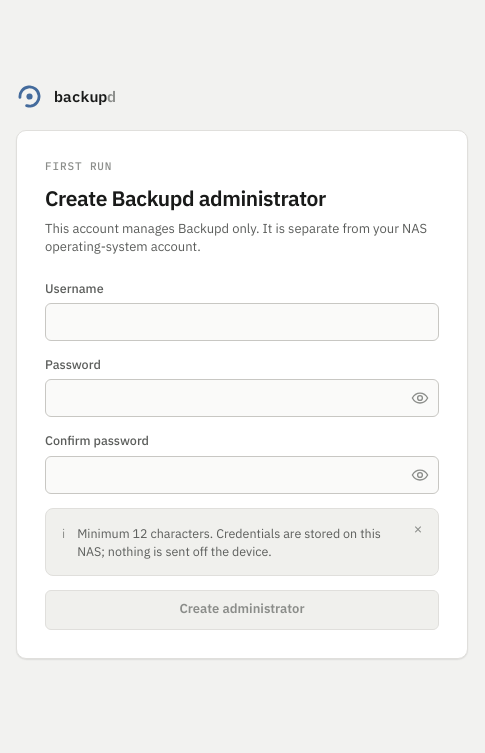
Test: enrolment says why it refused › offers no correlation id at all when the request never reached the service
Type "bm-admin" into the field labelled "Username". click: {"x": 242, "y": 322}
box: 45,303 -> 439,341
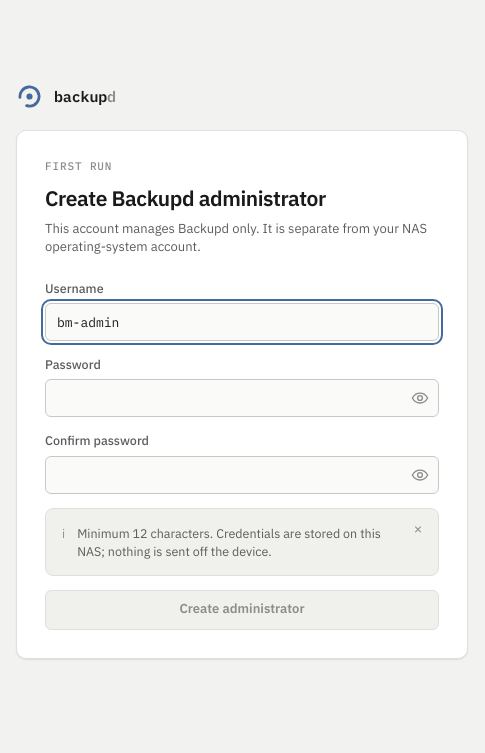
Type "a-long-enough-passphrase" into the password field labelled "Password". click: {"x": 242, "y": 398}
box: 45,380 -> 439,418
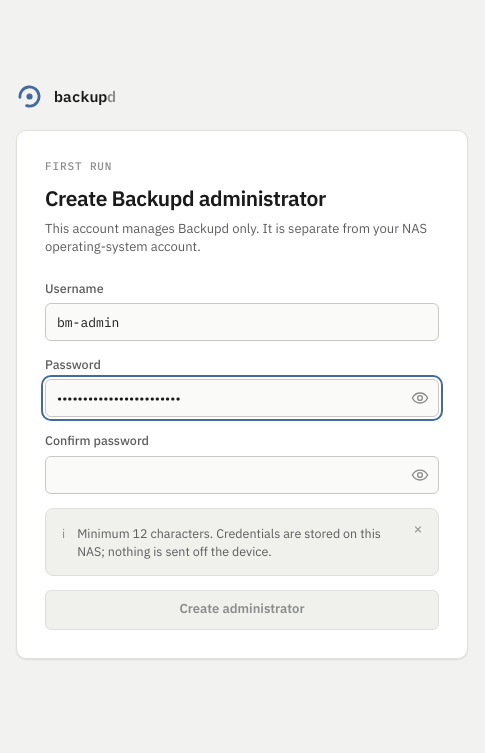
Type "a-long-enough-passphrase" into the password field labelled "Confirm password". click: {"x": 242, "y": 475}
box: 45,456 -> 439,494
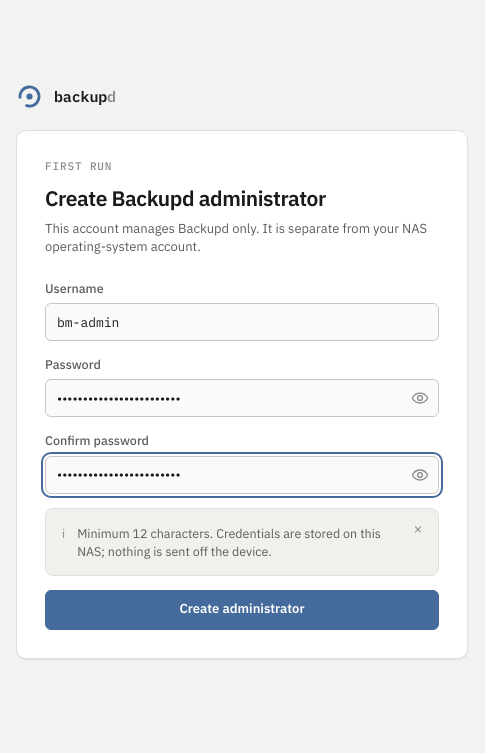
Click the button "Create administrator". click: {"x": 242, "y": 610}
box: 45,590 -> 439,630
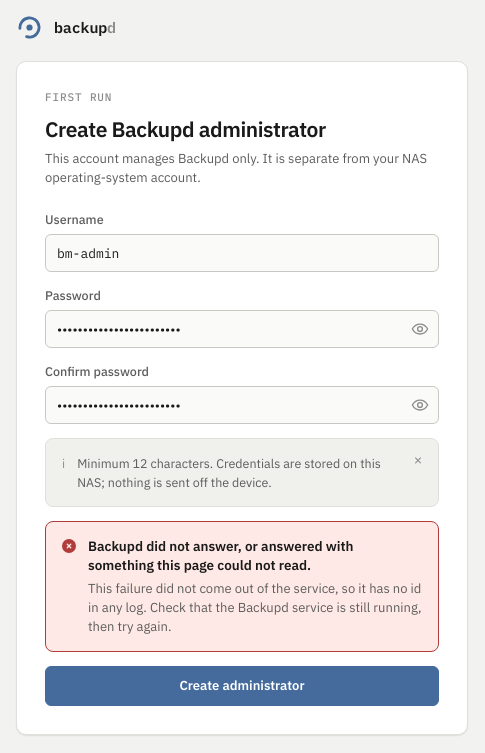
Now the text "did not answer" is shown, box 88,537 -> 354,574
